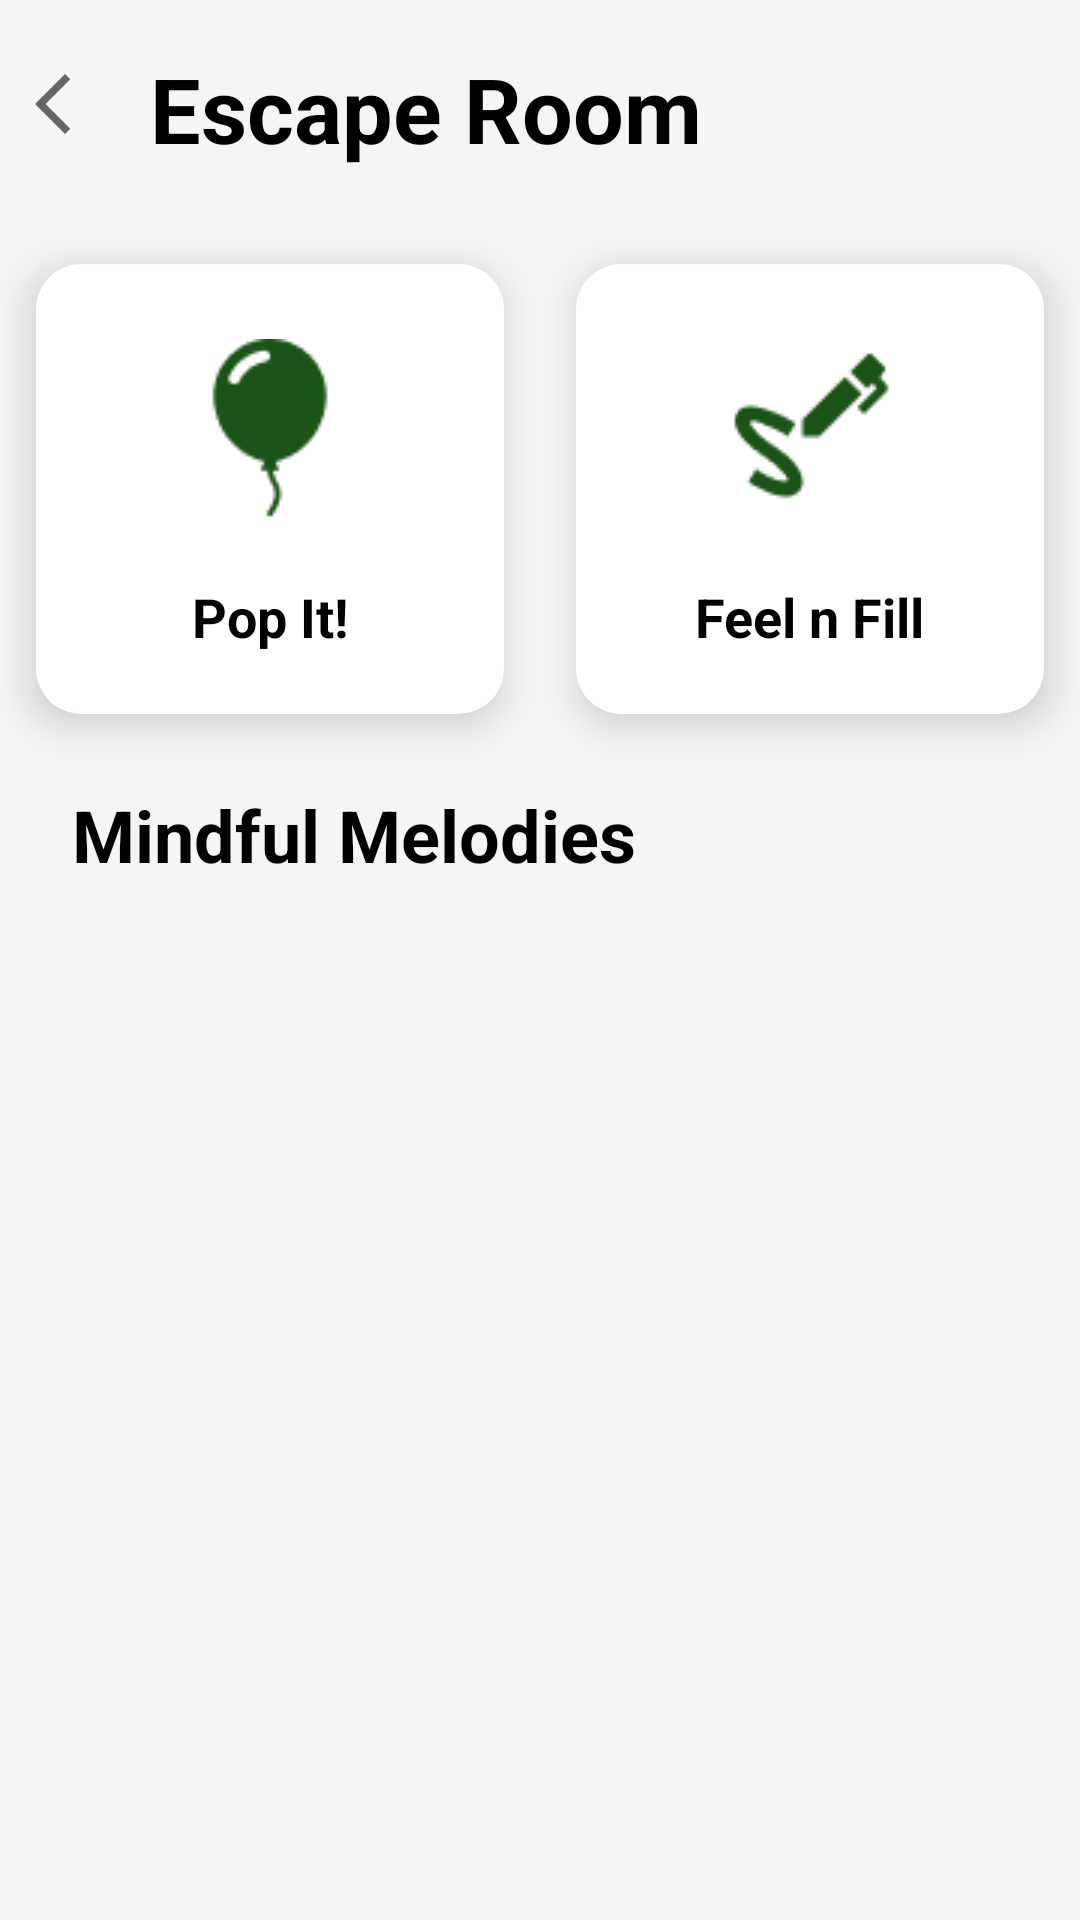

Named icons in this screenshot (1080×1920) and their centers, (x,y):
Back button: (52,104)
bi balloon: (270,428)
draw: (811,426)
